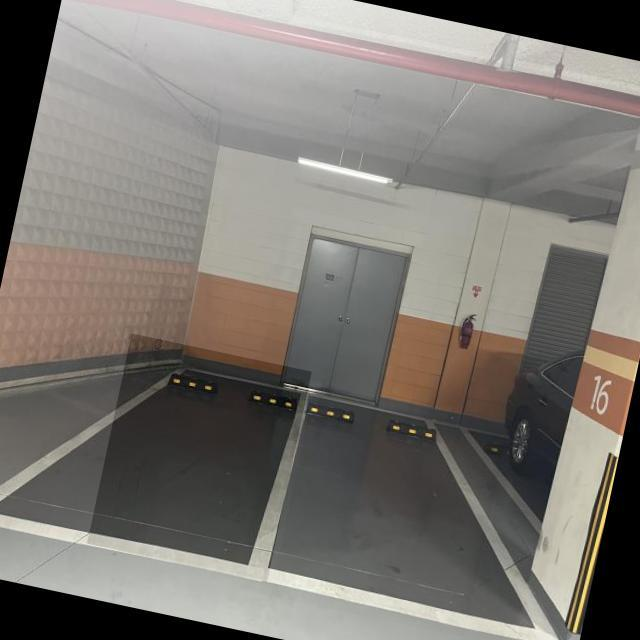empty: (270, 384, 508, 637), (86, 333, 312, 582)
